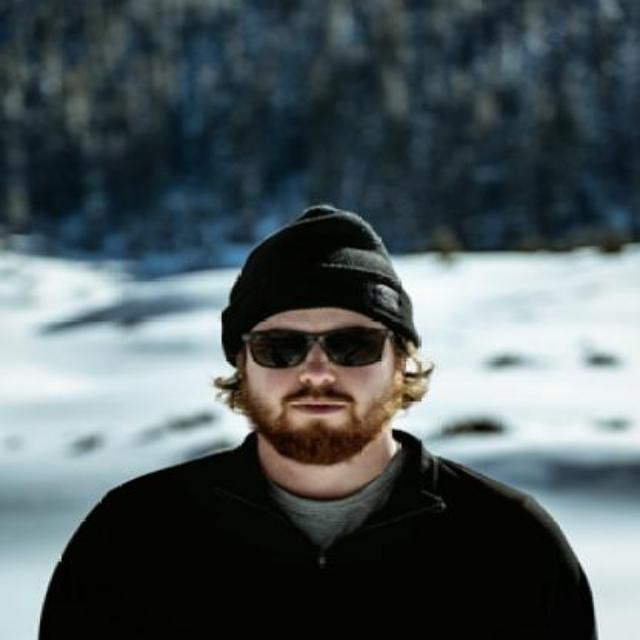sunglasses: (236, 327, 394, 368)
